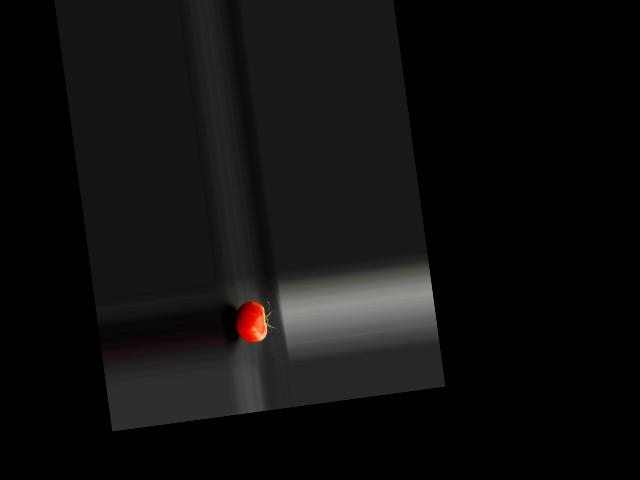tomato: (232, 300, 268, 345)
